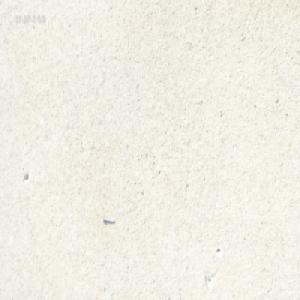Nail: (101, 214, 115, 223)
